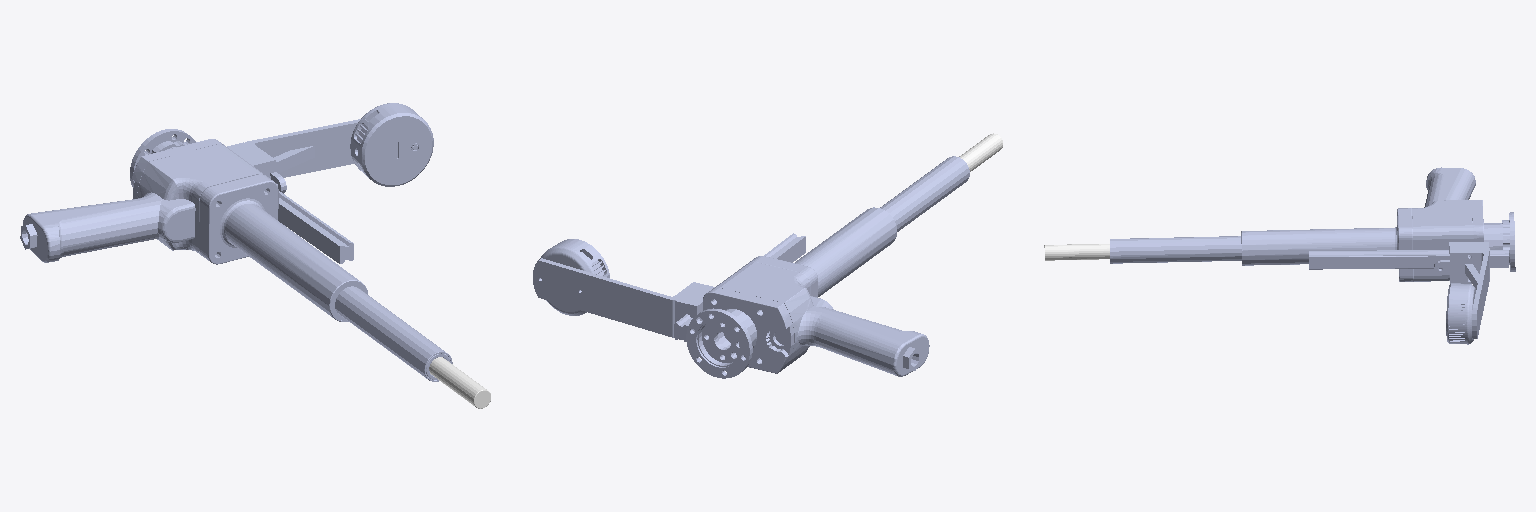
The robot description file, URDF, robot "endeffector":
<?xml version="1.0" encoding="utf-8"?>
<!-- This URDF was automatically created by SolidWorks to URDF Exporter! Originally created by [author] ([email redacted]) 
     Commit Version: 1.6.0-4-g7f85cfe  Build Version: 1.6.7995.38578
     For more information, please see http://wiki.ros.org/sw_urdf_exporter -->
<robot
  name="endeffector">
  <link
    name="end_effector_base_Link">
    <inertial>
      <origin
        xyz="0.059705 0.10557 0.16503"
        rpy="0 0 0" />
      <mass
        value="0.65151" />
      <inertia
        ixx="0.00070551"
        ixy="-1.1407E-06"
        ixz="-1.59E-05"
        iyy="0.0016582"
        iyz="5.8675E-06"
        izz="0.0011997" />
    </inertial>
    <visual>
      <origin
        xyz="0 0 0"
        rpy="0 0 0" />
      <geometry>
        <mesh
          filename="package://endeffector/meshes/end_effector_base_Link.STL" />
      </geometry>
      <material
        name="">
        <color
          rgba="0.79216 0.81961 0.93333 1" />
      </material>
    </visual>
    <collision>
      <origin
        xyz="0 0 0"
        rpy="0 0 0" />
      <geometry>
        <mesh
          filename="package://endeffector/meshes/end_effector_base_Link.STL" />
      </geometry>
    </collision>
  </link>
  <link
    name="camera_Link">
    <inertial>
      <origin
        xyz="4.6756E-05 -0.00051236 0.012832"
        rpy="0 0 0" />
      <mass
        value="0.071592" />
      <inertia
        ixx="1.9381E-05"
        ixy="-4.8E-08"
        ixz="4.5478E-09"
        iyy="2.0232E-05"
        iyz="-5.0299E-10"
        izz="3.1685E-05" />
    </inertial>
    <visual>
      <origin
        xyz="0 0 0"
        rpy="0 0 0" />
      <geometry>
        <mesh
          filename="package://endeffector/meshes/camera_Link.STL" />
      </geometry>
      <material
        name="">
        <color
          rgba="0.79216 0.81961 0.93333 1" />
      </material>
    </visual>
    <collision>
      <origin
        xyz="0 0 0"
        rpy="0 0 0" />
      <geometry>
        <mesh
          filename="package://endeffector/meshes/camera_Link.STL" />
      </geometry>
    </collision>
  </link>
  <joint
    name="camera_Joint"
    type="fixed">
    <origin
      xyz="0.23581 -0.13981 0.10673"
      rpy="-1.4894 1.569 -0.0064713" />
    <parent
      link="end_effector_base_Link" />
    <child
      link="camera_Link" />
    <axis
      xyz="0 0 0" />
  </joint>
  <link
    name="rotate_Link">
    <inertial>
      <origin
        xyz="-3.0605E-11 -4.037E-12 0.11365"
        rpy="0 0 0" />
      <mass
        value="0.047987" />
      <inertia
        ixx="0.00022999"
        ixy="-4.2745E-16"
        ixz="1.5549E-14"
        iyy="0.00022999"
        iyz="-1.7124E-13"
        izz="1.8252E-06" />
    </inertial>
    <visual>
      <origin
        xyz="0 0 0"
        rpy="0 0 0" />
      <geometry>
        <mesh
          filename="package://endeffector/meshes/rotate_Link.STL" />
      </geometry>
      <material
        name="">
        <color
          rgba="1 1 1 1" />
      </material>
    </visual>
    <collision>
      <origin
        xyz="0 0 0"
        rpy="0 0 0" />
      <geometry>
        <mesh
          filename="package://endeffector/meshes/rotate_Link.STL" />
      </geometry>
    </collision>
  </link>
  <joint
    name="rotate_Joint"
    type="continuous">
    <origin
      xyz="0.071989 -0.30978 0.10306"
      rpy="-1.5877 0.0017984 -3.1247" />
    <parent
      link="end_effector_base_Link" />
    <child
      link="rotate_Link" />
    <axis
      xyz="0 0 0" />
  </joint>
</robot>

--- Render facts (derived) ---
The picture shows the robot from 3 angles, left to right: view 1: azimuth 30°, elevation 25°; view 2: azimuth 150°, elevation 25°; view 3: azimuth 270°, elevation 25°; orthographic projection.
Model endeffector with 3 links and 2 joints (1 continuous, 1 fixed), rooted at end_effector_base_Link, posed every joint at zero.
Links seen in each view (by area): view 1: end_effector_base_Link, camera_Link, rotate_Link; view 2: end_effector_base_Link, camera_Link, rotate_Link; view 3: end_effector_base_Link, camera_Link, rotate_Link.
Boxes of the visible links, x1,y1,x2,y2 form: end_effector_base_Link: [20, 119, 452, 381]; camera_Link: [350, 103, 433, 186]; rotate_Link: [429, 357, 490, 408]; end_effector_base_Link: [533, 156, 969, 378]; camera_Link: [539, 239, 609, 315]; rotate_Link: [959, 133, 1002, 171]; end_effector_base_Link: [1110, 167, 1515, 338]; camera_Link: [1446, 283, 1475, 344]; rotate_Link: [1044, 244, 1109, 260].
Bounding box of the posed robot: 0.3554 × 0.4721 × 0.0622 m (x, y, z).
3 mesh visuals loaded from 3 distinct referenced files (3 binary STL).